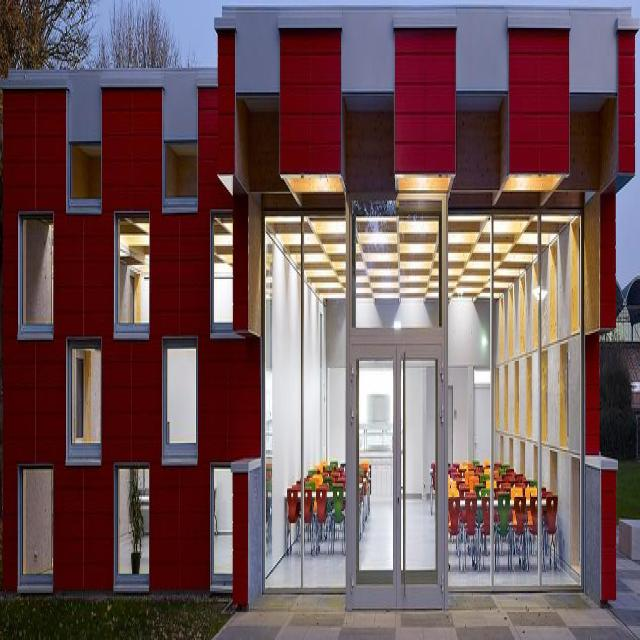door: (344, 325, 448, 615)
window: (263, 209, 585, 597), (65, 335, 102, 466), (115, 466, 147, 591), (20, 466, 53, 586), (163, 338, 194, 463), (117, 211, 148, 335), (19, 217, 52, 327), (211, 465, 234, 587), (209, 208, 232, 330), (68, 140, 104, 205), (164, 143, 196, 205)
